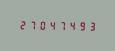four: (47, 19, 56, 30), (67, 20, 76, 31)
nine: (77, 20, 86, 31)
seven: (57, 19, 66, 31), (27, 19, 36, 30)
three: (87, 20, 96, 31)
two: (17, 19, 26, 30)
zero: (37, 19, 46, 30)
